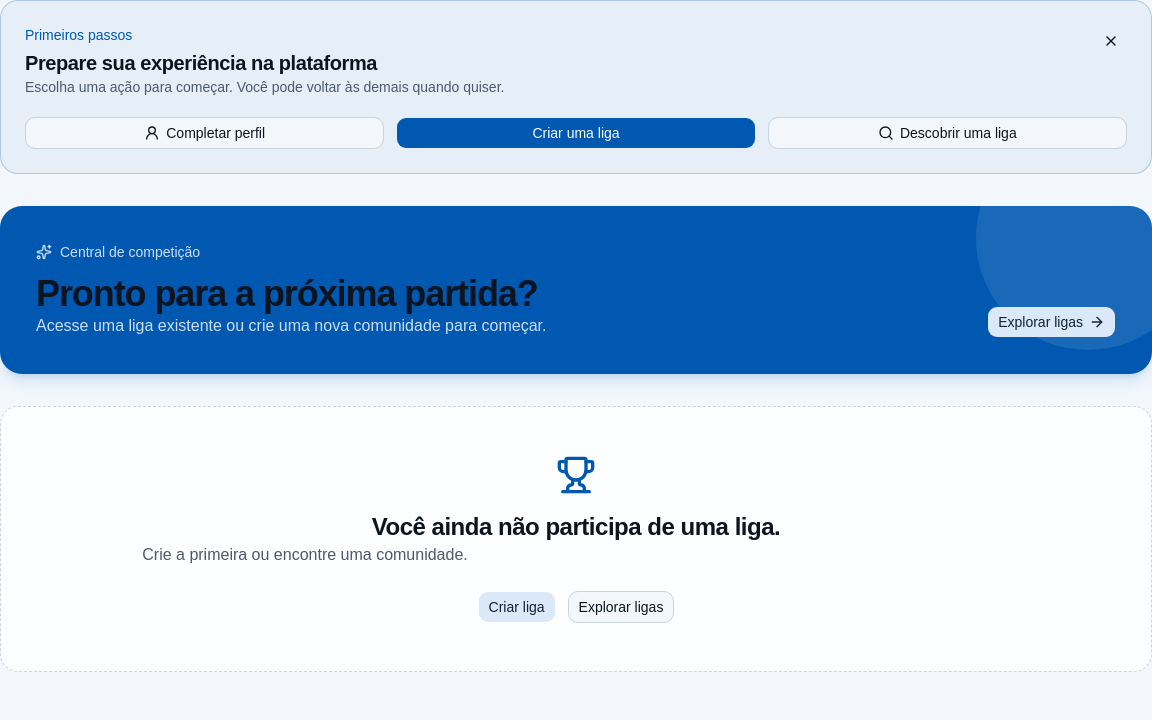
Test: DashboardPage › offers and persists dismissal of first-login next steps
Click the button named "fechar primeiros passos". click: [1111, 41]
box: x1=1095 y1=25 x2=1127 y2=57
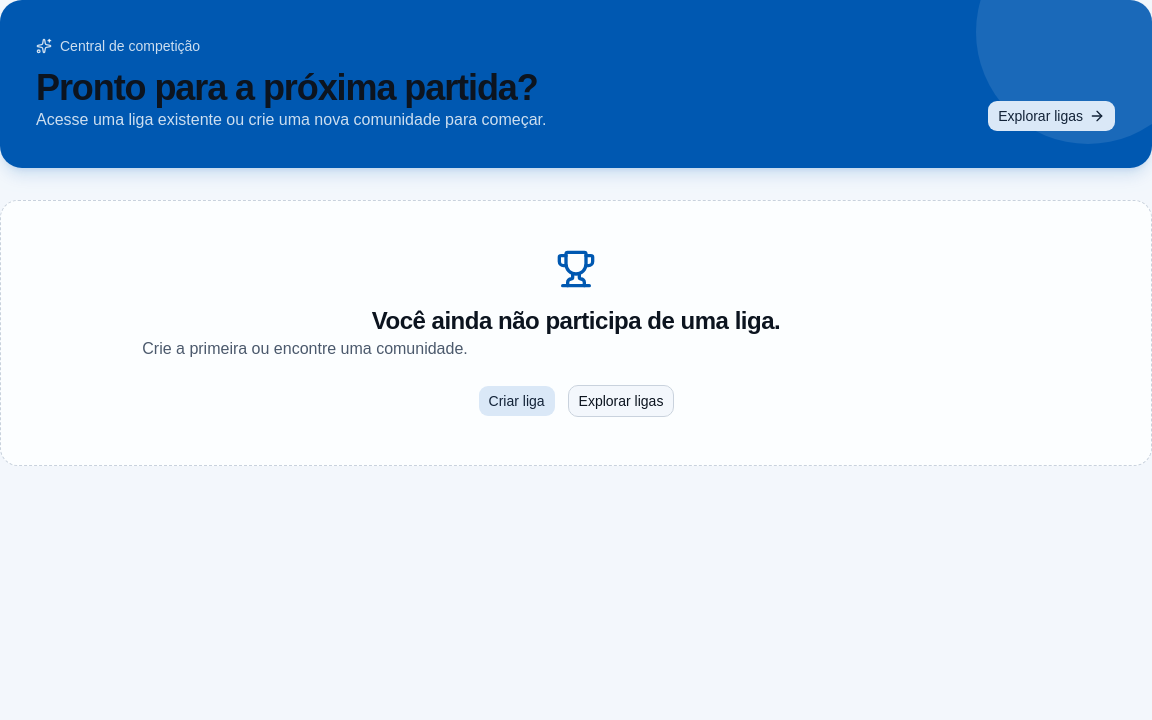
Now the heading "Prepare sua experiência na plataforma" is gone
